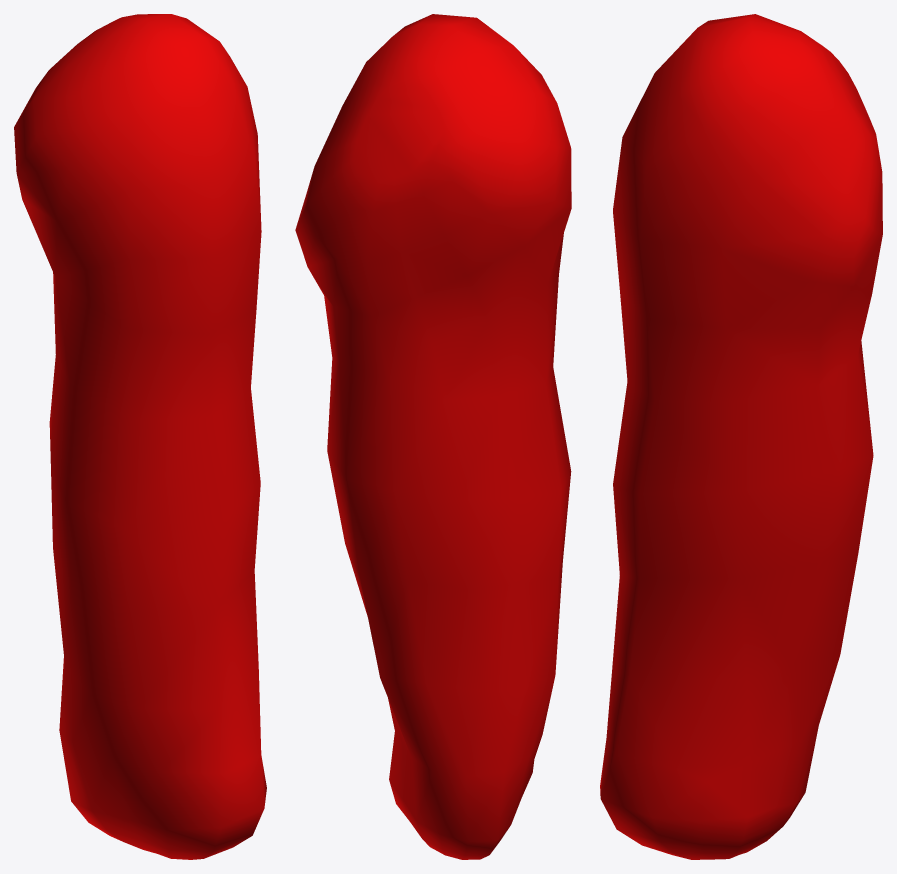
The model's file is ArmUpper.dae.
3 views of the same model, side by side, from view 1: azimuth 30°, elevation 25°; view 2: azimuth 150°, elevation 25°; view 3: azimuth 270°, elevation 25° (orthographic).
Parts seen in each view (by area): view 1: ArmUpper; view 2: ArmUpper; view 3: ArmUpper.
Boxes of the visible parts, x1,y1,x2,y2 form: ArmUpper: [14, 14, 266, 859]; ArmUpper: [295, 14, 571, 859]; ArmUpper: [600, 14, 882, 859].
Size of the model in its own units: 0.0887 by 0.0967 by 0.3147.
